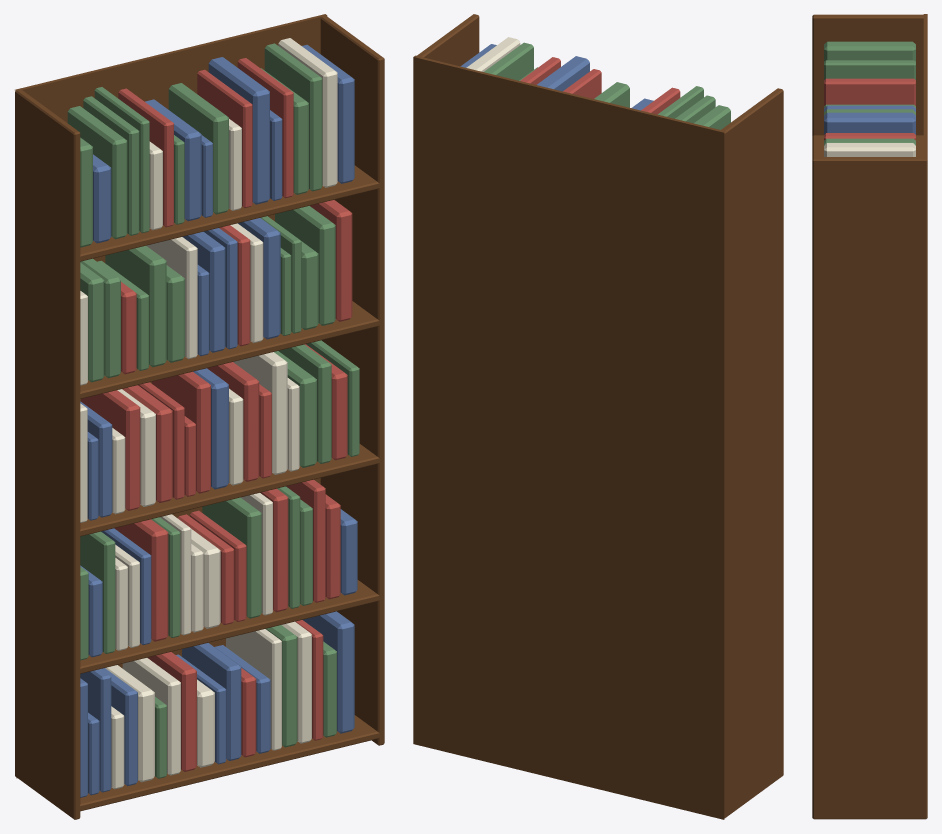
File: bookshelf_books.glb
3 views of the same model, side by side, from view 1: azimuth 30°, elevation 25°; view 2: azimuth 150°, elevation 25°; view 3: azimuth 270°, elevation 25° (orthographic). The views are drawn at different scales.
Visible parts, largest first — view 1: Bookshelf; view 2: Bookshelf; view 3: Bookshelf.
Part boxes in pixels (left/top/right/bottom): Bookshelf: left=15, top=14, right=384, bottom=819; Bookshelf: left=413, top=14, right=783, bottom=819; Bookshelf: left=812, top=14, right=927, bottom=819.
Bounding box in the file's own units: 0.9 × 1.9 × 0.3.
